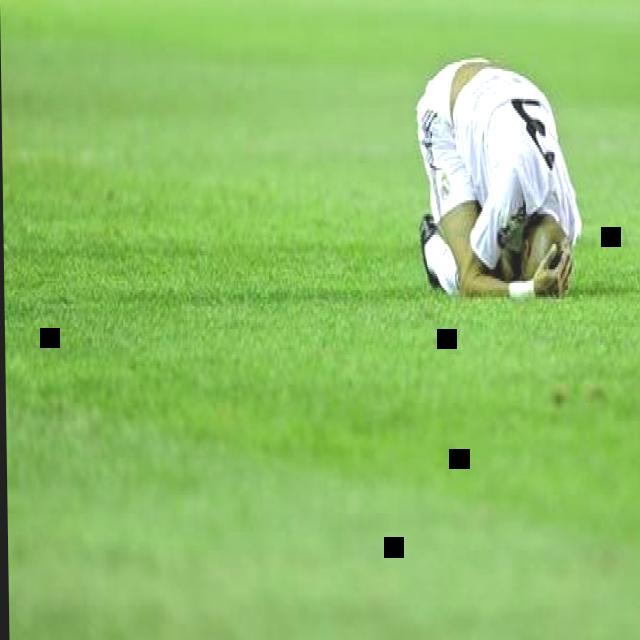Fall-Detected: (402, 42, 592, 308)
